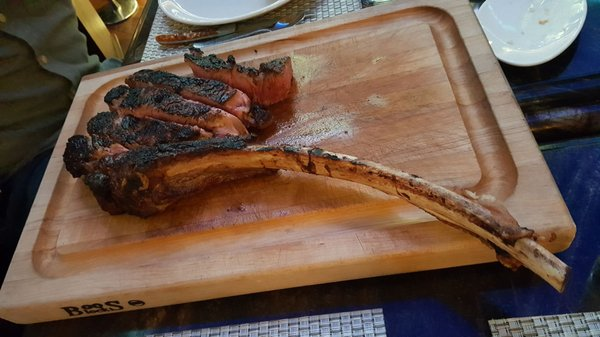pizza: (470, 0, 588, 67), (70, 0, 159, 67)
